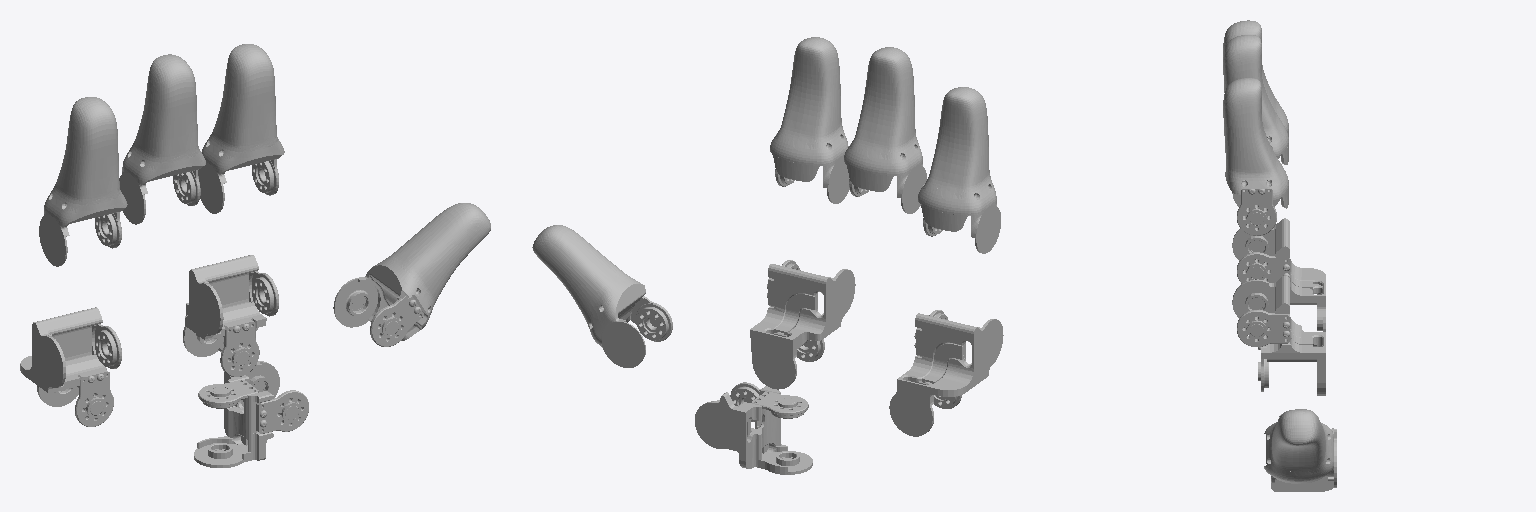
robot.urdf — SG100V3.0_R_URDF_3D:
<?xml version="1.0" encoding="utf-8"?>
<!-- This URDF was automatically created by SolidWorks to URDF Exporter! Originally created by Stephen Brawner (brawner@gmail.com) 
     Commit Version: 1.6.0-4-g7f85cfe  Build Version: 1.6.7995.38578
     For more information, please see http://wiki.ros.org/sw_urdf_exporter -->
<robot
  name="SG100V3.0_R_URDF_3D">
  <link
    name="base_link">
    <inertial>
      <origin
        xyz="-0.000414998999227815 -0.0181040369923601 0.0626697040146343"
        rpy="0 0 0" />
      <mass
        value="0.305725448065077" />
      <inertia
        ixx="0.000158989061418836"
        ixy="4.83957781671324E-06"
        ixz="-6.036396893673E-06"
        iyy="0.000244064793884569"
        iyz="9.63190531237913E-06"
        izz="0.00015976914173144" />
    </inertial>
    <visual>
      <origin
        xyz="0 0 0"
        rpy="0 0 0" />
      <geometry>
        <mesh
          filename="package://SG100V3.0_R_URDF_3D/meshes/base_link.STL" />
      </geometry>
      <material
        name="">
        <color
          rgba="0.752941176470588 0.752941176470588 0.752941176470588 1" />
      </material>
    </visual>
    <collision>
      <origin
        xyz="0 0 0"
        rpy="0 0 0" />
      <geometry>
        <mesh
          filename="package://SG100V3.0_R_URDF_3D/meshes/base_link.STL" />
      </geometry>
    </collision>
  </link>
  <link
    name="thumb_link1">
    <inertial>
      <origin
        xyz="0.0120771567691542 0.00239257435604567 0.0136728170349049"
        rpy="0 0 0" />
      <mass
        value="0.0113387523148287" />
      <inertia
        ixx="1.38862615461349E-06"
        ixy="-2.71441427419766E-07"
        ixz="-3.24833159401412E-07"
        iyy="1.25101658724764E-06"
        iyz="-1.63938335089224E-07"
        izz="1.21414905090188E-06" />
    </inertial>
    <visual>
      <origin
        xyz="0 0 0"
        rpy="0 0 0" />
      <geometry>
        <mesh
          filename="package://SG100V3.0_R_URDF_3D/meshes/thumb_link1.STL" />
      </geometry>
      <material
        name="">
        <color
          rgba="0.752941176470588 0.752941176470588 0.752941176470588 1" />
      </material>
    </visual>
    <collision>
      <origin
        xyz="0 0 0"
        rpy="0 0 0" />
      <geometry>
        <mesh
          filename="package://SG100V3.0_R_URDF_3D/meshes/thumb_link1.STL" />
      </geometry>
    </collision>
  </link>
  <joint
    name="thumb_j1"
    type="revolute">
    <origin
      xyz="0.0315000340876379 -0.03185808415747 0.03840000000004"
      rpy="0 0 0" />
    <parent
      link="base_link" />
    <child
      link="thumb_link1" />
    <axis
      xyz="0 0 -1" />
    <limit
      lower="0"
      upper="2.182"
      effort="0"
      velocity="0" />
  </joint>
  <link
    name="thumb_link2">
    <inertial>
      <origin
        xyz="0.0216506472257303 0.0124998854988972 0.014077934278322"
        rpy="0 0 0" />
      <mass
        value="0.0389602928500587" />
      <inertia
        ixx="3.4122140966438E-06"
        ixy="-1.28623546050382E-06"
        ixz="-2.2414128381453E-11"
        iyy="4.89742955560314E-06"
        iyz="3.88302934408901E-11"
        izz="4.96550383021464E-06" />
    </inertial>
    <visual>
      <origin
        xyz="0 0 0"
        rpy="0 0 0" />
      <geometry>
        <mesh
          filename="package://SG100V3.0_R_URDF_3D/meshes/thumb_link2.STL" />
      </geometry>
      <material
        name="">
        <color
          rgba="0.752941176470588 0.752941176470588 0.752941176470588 1" />
      </material>
    </visual>
    <collision>
      <origin
        xyz="0 0 0"
        rpy="0 0 0" />
      <geometry>
        <mesh
          filename="package://SG100V3.0_R_URDF_3D/meshes/thumb_link2.STL" />
      </geometry>
    </collision>
  </link>
  <joint
    name="thumb_j2"
    type="revolute">
    <origin
      xyz="0.024 0.0155 0.0176"
      rpy="1.5708 0 0" />
    <parent
      link="thumb_link1" />
    <child
      link="thumb_link2" />
    <axis
      xyz="0 0 1" />
    <limit
      lower="-2.61"
      upper="0"
      effort="0"
      velocity="0" />
  </joint>
  <link
    name="thumb_link3">
    <inertial>
      <origin
        xyz="0.0213380181820181 0.0152597778818099 0.0140520446761166"
        rpy="0 0 0" />
      <mass
        value="0.0391700355427288" />
      <inertia
        ixx="3.5414216454006E-06"
        ixy="-1.15344683729334E-06"
        ixz="-1.43832349993507E-07"
        iyy="3.8422075253618E-06"
        iyz="-5.46135022641842E-08"
        izz="4.60629028518077E-06" />
    </inertial>
    <visual>
      <origin
        xyz="0 0 0"
        rpy="0 0 0" />
      <geometry>
        <mesh
          filename="package://SG100V3.0_R_URDF_3D/meshes/thumb_link3.STL" />
      </geometry>
      <material
        name="">
        <color
          rgba="0.752941176470588 0.752941176470588 0.752941176470588 1" />
      </material>
    </visual>
    <collision>
      <origin
        xyz="0 0 0"
        rpy="0 0 0" />
      <geometry>
        <mesh
          filename="package://SG100V3.0_R_URDF_3D/meshes/thumb_link3.STL" />
      </geometry>
    </collision>
  </link>
  <joint
    name="thumb_j3"
    type="revolute">
    <origin
      xyz="0.0433012701892112 0.0249999999999943 0.000999999999999992"
      rpy="0 0 0" />
    <parent
      link="thumb_link2" />
    <child
      link="thumb_link3" />
    <axis
      xyz="0 0 1" />
    <limit
      lower="-1.048"
      upper="1.57"
      effort="0"
      velocity="0" />
  </joint>
  <link
    name="index_link1">
    <inertial>
      <origin
        xyz="-0.00192286221915933 0.0160765720339984 0.0160014379359226"
        rpy="0 0 0" />
      <mass
        value="0.0164783133065153" />
      <inertia
        ixx="2.35967191348968E-06"
        ixy="2.52056066969685E-07"
        ixz="3.85455394773503E-07"
        iyy="1.92772778704174E-06"
        iyz="-6.21965134880054E-07"
        izz="2.38513082903791E-06" />
    </inertial>
    <visual>
      <origin
        xyz="0 0 0"
        rpy="0 0 0" />
      <geometry>
        <mesh
          filename="package://SG100V3.0_R_URDF_3D/meshes/index_link1.STL" />
      </geometry>
      <material
        name="">
        <color
          rgba="0.752941176470588 0.752941176470588 0.752941176470588 1" />
      </material>
    </visual>
    <collision>
      <origin
        xyz="0 0 0"
        rpy="0 0 0" />
      <geometry>
        <mesh
          filename="package://SG100V3.0_R_URDF_3D/meshes/index_link1.STL" />
      </geometry>
    </collision>
  </link>
  <joint
    name="index_j1"
    type="revolute">
    <origin
      xyz="0.0315 -0.020758 0.086"
      rpy="1.5708 0 0" />
    <parent
      link="base_link" />
    <child
      link="index_link1" />
    <axis
      xyz="0 0 -1" />
    <limit
      lower="0"
      upper="1.57"
      effort="0"
      velocity="0" />
  </joint>
  <link
    name="index_link2">
    <inertial>
      <origin
        xyz="1.07914988715929E-07 0.0249999506725764 0.0140779443986546"
        rpy="0 0 0" />
      <mass
        value="0.0389603085020688" />
      <inertia
        ixx="5.64004176550247E-06"
        ixy="6.36188568841575E-13"
        ixz="-4.52896024925001E-11"
        iyy="2.66959788800775E-06"
        iyz="2.78258538701048E-13"
        izz="4.96551193105007E-06" />
    </inertial>
    <visual>
      <origin
        xyz="0 0 0"
        rpy="0 0 0" />
      <geometry>
        <mesh
          filename="package://SG100V3.0_R_URDF_3D/meshes/index_link2.STL" />
      </geometry>
      <material
        name="">
        <color
          rgba="0.752941176470588 0.752941176470588 0.752941176470588 1" />
      </material>
    </visual>
    <collision>
      <origin
        xyz="0 0 0"
        rpy="0 0 0" />
      <geometry>
        <mesh
          filename="package://SG100V3.0_R_URDF_3D/meshes/index_link2.STL" />
      </geometry>
    </collision>
  </link>
  <joint
    name="index_j2"
    type="revolute">
    <origin
      xyz="-0.0155 0.024 0.0281"
      rpy="0 1.5707963267949 0" />
    <parent
      link="index_link1" />
    <child
      link="index_link2" />
    <axis
      xyz="0 0 1" />
    <limit
      lower="0"
      upper="2.18"
      effort="0"
      velocity="0" />
  </joint>
  <link
    name="index_link3">
    <inertial>
      <origin
        xyz="-0.00254631665879401 0.0261091312977331 0.0140520312199692"
        rpy="0 0 0" />
      <mass
        value="0.039169569670025" />
      <inertia
        ixx="4.76582704993042E-06"
        ixy="4.46451285037219E-07"
        ixz="-2.46133875754294E-08"
        iyy="2.61766787253799E-06"
        iyz="-1.51850712404017E-07"
        izz="4.60618440130241E-06" />
    </inertial>
    <visual>
      <origin
        xyz="0 0 0"
        rpy="0 0 0" />
      <geometry>
        <mesh
          filename="package://SG100V3.0_R_URDF_3D/meshes/index_link3.STL" />
      </geometry>
      <material
        name="">
        <color
          rgba="0.752941176470588 0.752941176470588 0.752941176470588 1" />
      </material>
    </visual>
    <collision>
      <origin
        xyz="0 0 0"
        rpy="0 0 0" />
      <geometry>
        <mesh
          filename="package://SG100V3.0_R_URDF_3D/meshes/index_link3.STL" />
      </geometry>
    </collision>
  </link>
  <joint
    name="index_j3"
    type="revolute">
    <origin
      xyz="0 0.0499999999999879 0.00100000000000001"
      rpy="0 0 0" />
    <parent
      link="index_link2" />
    <child
      link="index_link3" />
    <axis
      xyz="0 0 1" />
    <limit
      lower="-1.05"
      upper="1.57"
      effort="0"
      velocity="0" />
  </joint>
  <link
    name="middle_link1">
    <inertial>
      <origin
        xyz="1.08016284257328E-07 0.0249999507772835 0.0140779451716232"
        rpy="0 0 0" />
      <mass
        value="0.0389603089069081" />
      <inertia
        ixx="5.6400419900532E-06"
        ixy="5.715810172083E-13"
        ixz="-4.54210053987226E-11"
        iyy="2.6695980694843E-06"
        iyz="1.34396033706801E-13"
        izz="4.96551183479354E-06" />
    </inertial>
    <visual>
      <origin
        xyz="0 0 0"
        rpy="0 0 0" />
      <geometry>
        <mesh
          filename="package://SG100V3.0_R_URDF_3D/meshes/middle_link1.STL" />
      </geometry>
      <material
        name="">
        <color
          rgba="0.752941176470588 0.752941176470588 0.752941176470588 1" />
      </material>
    </visual>
    <collision>
      <origin
        xyz="0 0 0"
        rpy="0 0 0" />
      <geometry>
        <mesh
          filename="package://SG100V3.0_R_URDF_3D/meshes/middle_link1.STL" />
      </geometry>
    </collision>
  </link>
  <joint
    name="middle_j1"
    type="revolute">
    <origin
      xyz="-0.018 -0.048858 0.1135"
      rpy="1.5708 0 1.5708" />
    <parent
      link="base_link" />
    <child
      link="middle_link1" />
    <axis
      xyz="0 0 -1" />
    <limit
      lower="-2.18"
      upper="0"
      effort="0"
      velocity="0" />
  </joint>
  <link
    name="middle_link2">
    <inertial>
      <origin
        xyz="-0.0025463161373562 0.0261091299053668 0.0140520318441871"
        rpy="0 0 0" />
      <mass
        value="0.0391695723626892" />
      <inertia
        ixx="4.76582741173177E-06"
        ixy="4.46451321193341E-07"
        ixz="-2.46135080206815E-08"
        iyy="2.61766824883249E-06"
        iyz="-1.51850592956514E-07"
        izz="4.60618446893163E-06" />
    </inertial>
    <visual>
      <origin
        xyz="0 0 0"
        rpy="0 0 0" />
      <geometry>
        <mesh
          filename="package://SG100V3.0_R_URDF_3D/meshes/middle_link2.STL" />
      </geometry>
      <material
        name="">
        <color
          rgba="0.752941176470588 0.752941176470588 0.752941176470588 1" />
      </material>
    </visual>
    <collision>
      <origin
        xyz="0 0 0"
        rpy="0 0 0" />
      <geometry>
        <mesh
          filename="package://SG100V3.0_R_URDF_3D/meshes/middle_link2.STL" />
      </geometry>
    </collision>
  </link>
  <joint
    name="middle_j2"
    type="revolute">
    <origin
      xyz="0 0.0499999999999879 0.000999999999999997"
      rpy="0 0 0" />
    <parent
      link="middle_link1" />
    <child
      link="middle_link2" />
    <axis
      xyz="0 0 1" />
    <limit
      lower="-1.05"
      upper="1.57"
      effort="0"
      velocity="0" />
  </joint>
  <link
    name="little_link1">
    <inertial>
      <origin
        xyz="-0.00664760756016337 0.0164128377639005 0.0160729276430044"
        rpy="0 0 0" />
      <mass
        value="0.0161726264481223" />
      <inertia
        ixx="2.26646362279032E-06"
        ixy="2.99853956385536E-07"
        ixz="4.03188674419406E-07"
        iyy="1.93121676353436E-06"
        iyz="-5.88441289117256E-07"
        izz="2.35726576008919E-06" />
    </inertial>
    <visual>
      <origin
        xyz="0 0 0"
        rpy="0 0 0" />
      <geometry>
        <mesh
          filename="package://SG100V3.0_R_URDF_3D/meshes/little_link1.STL" />
      </geometry>
      <material
        name="">
        <color
          rgba="0.752941176470588 0.752941176470588 0.752941176470588 1" />
      </material>
    </visual>
    <collision>
      <origin
        xyz="0 0 0"
        rpy="0 0 0" />
      <geometry>
        <mesh
          filename="package://SG100V3.0_R_URDF_3D/meshes/little_link1.STL" />
      </geometry>
    </collision>
  </link>
  <joint
    name="little_j1"
    type="revolute">
    <origin
      xyz="-0.0314999659123509 -0.0207580841574733 0.0800000000000397"
      rpy="1.5707963267949 0 0" />
    <parent
      link="base_link" />
    <child
      link="little_link1" />
    <axis
      xyz="0 0 -1" />
    <limit
      lower="-3.14"
      upper="0"
      effort="0"
      velocity="0" />
  </joint>
  <link
    name="little_llink2">
    <inertial>
      <origin
        xyz="1.0801628431284E-07 0.0249999507772834 0.0140779451716232"
        rpy="0 0 0" />
      <mass
        value="0.0389603089069083" />
      <inertia
        ixx="5.64004199005323E-06"
        ixy="5.71581023652563E-13"
        ixz="-4.54210053987317E-11"
        iyy="2.66959806948432E-06"
        iyz="1.3439603890535E-13"
        izz="4.96551183479357E-06" />
    </inertial>
    <visual>
      <origin
        xyz="0 0 0"
        rpy="0 0 0" />
      <geometry>
        <mesh
          filename="package://SG100V3.0_R_URDF_3D/meshes/little_llink2.STL" />
      </geometry>
      <material
        name="">
        <color
          rgba="0.752941176470588 0.752941176470588 0.752941176470588 1" />
      </material>
    </visual>
    <collision>
      <origin
        xyz="0 0 0"
        rpy="0 0 0" />
      <geometry>
        <mesh
          filename="package://SG100V3.0_R_URDF_3D/meshes/little_llink2.STL" />
      </geometry>
    </collision>
  </link>
  <joint
    name="little_j2"
    type="revolute">
    <origin
      xyz="-0.0205 0.024 0.0281"
      rpy="0 1.5707963267949 0" />
    <parent
      link="little_link1" />
    <child
      link="little_llink2" />
    <axis
      xyz="0 0 1" />
    <limit
      lower="0"
      upper="2.18"
      effort="0"
      velocity="0" />
  </joint>
  <link
    name="little_linik3">
    <inertial>
      <origin
        xyz="-0.00254631589504758 0.026109129459078 0.0140520316215023"
        rpy="0 0 0" />
      <mass
        value="0.0391695736569134" />
      <inertia
        ixx="4.76582749290851E-06"
        ixy="4.46451343500283E-07"
        ixz="-2.46134678050998E-08"
        iyy="2.61766834105641E-06"
        iyz="-1.51850616101759E-07"
        izz="4.60618453244484E-06" />
    </inertial>
    <visual>
      <origin
        xyz="0 0 0"
        rpy="0 0 0" />
      <geometry>
        <mesh
          filename="package://SG100V3.0_R_URDF_3D/meshes/little_linik3.STL" />
      </geometry>
      <material
        name="">
        <color
          rgba="0.752941176470588 0.752941176470588 0.752941176470588 1" />
      </material>
    </visual>
    <collision>
      <origin
        xyz="0 0 0"
        rpy="0 0 0" />
      <geometry>
        <mesh
          filename="package://SG100V3.0_R_URDF_3D/meshes/little_linik3.STL" />
      </geometry>
    </collision>
  </link>
  <joint
    name="little_j3"
    type="revolute">
    <origin
      xyz="0 0.0499999999999879 0.00099999999999998"
      rpy="0 0 0" />
    <parent
      link="little_llink2" />
    <child
      link="little_linik3" />
    <axis
      xyz="0 0 1" />
    <limit
      lower="-1.05"
      upper="1.57"
      effort="0"
      velocity="0" />
  </joint>
</robot>

--- Render facts (derived) ---
3 views of the same robot in one strip: view 1: azimuth 30°, elevation 25°; view 2: azimuth 150°, elevation 25°; view 3: azimuth 270°, elevation 25° (orthographic).
Model SG100V3.0_R_URDF_3D with 12 links and 11 joints (11 revolute), rooted at base_link, posed every joint at zero.
Visible links, largest first — view 1: thumb_link3, little_linik3, index_link3, middle_link2, index_link1, little_link1, thumb_link1; view 2: thumb_link3, little_linik3, middle_link2, index_link3, index_link1, little_link1, thumb_link1; view 3: index_link3, index_link1, little_link1, thumb_link3, middle_link2, little_linik3, thumb_link1.
Link boxes in pixels (x1,y1,x2,y2): thumb_link3: (333,203,490,346); little_linik3: (39,97,127,266); index_link3: (198,44,284,213); middle_link2: (119,54,205,224); index_link1: (183,255,278,376); little_link1: (20,307,121,426); thumb_link1: (194,361,308,467); thumb_link3: (532,225,672,367); little_linik3: (918,87,1000,253); middle_link2: (844,47,926,213); index_link3: (770,37,849,203); index_link1: (750,260,855,389); little_link1: (889,310,1003,436); thumb_link1: (695,382,812,474); index_link3: (1223,78,1288,235); index_link1: (1232,276,1325,395); little_link1: (1232,218,1325,331); thumb_link3: (1264,409,1333,483); middle_link2: (1223,35,1288,164); little_linik3: (1223,20,1288,136); thumb_link1: (1271,414,1336,491).
Size in the robot's own frame: 0.1993 by 0.0462 by 0.1816 metres.
Meshes: 12 distinct files referenced, 7 mesh visuals loaded (7 binary STL); not drawn: 5 (reference not matched to a file when rendering).
